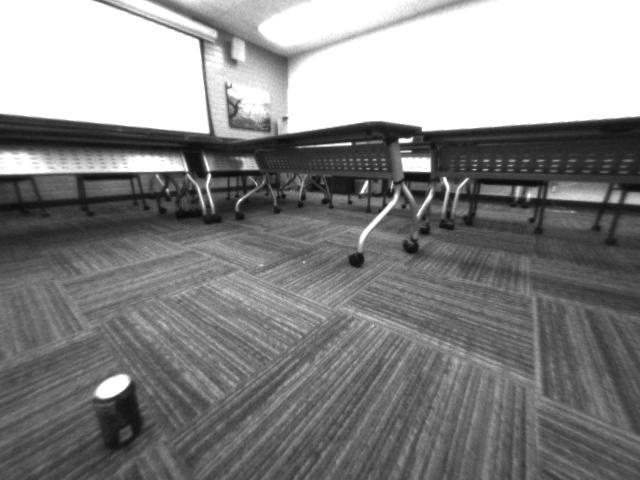can: (88, 367, 146, 452)
